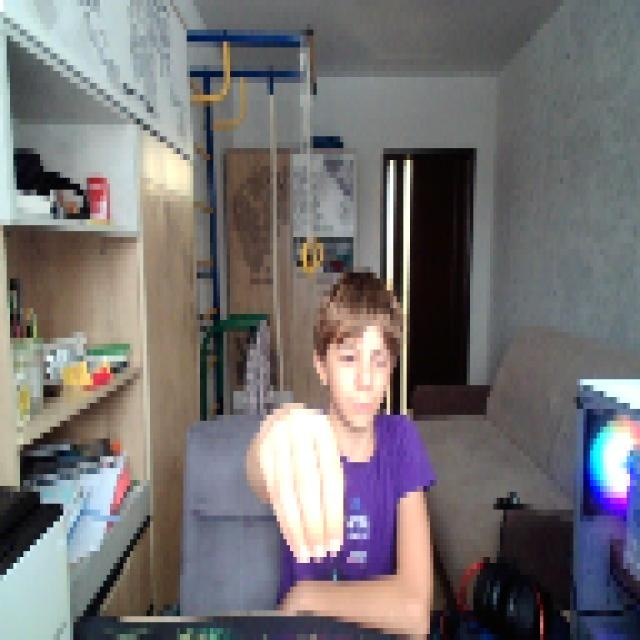left_click: (257, 397, 343, 563)
